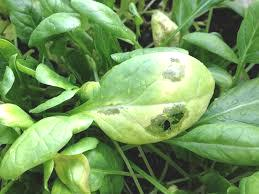Bok-Choy-Diseased: (95, 57, 208, 148)
